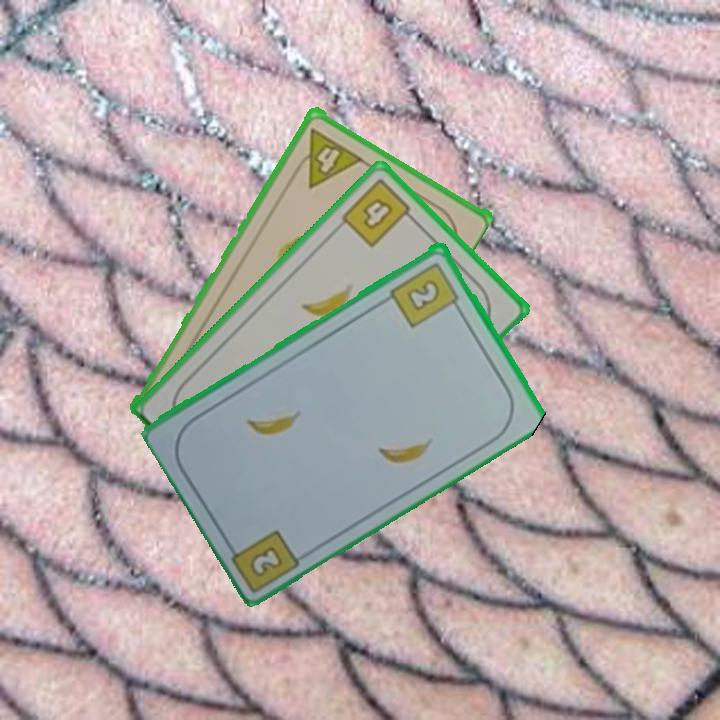2b: (386, 258, 465, 330), (246, 541, 286, 580)
4b: (337, 174, 420, 250)
4p: (288, 124, 364, 190)
